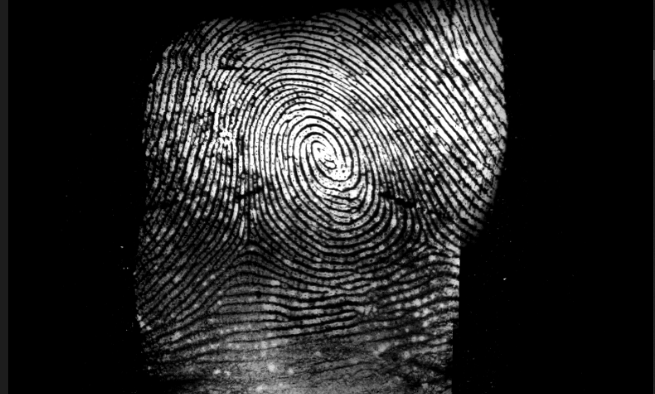nucelo: (302, 137, 339, 172)
verticilo: (232, 220, 267, 260), (407, 227, 448, 256)
